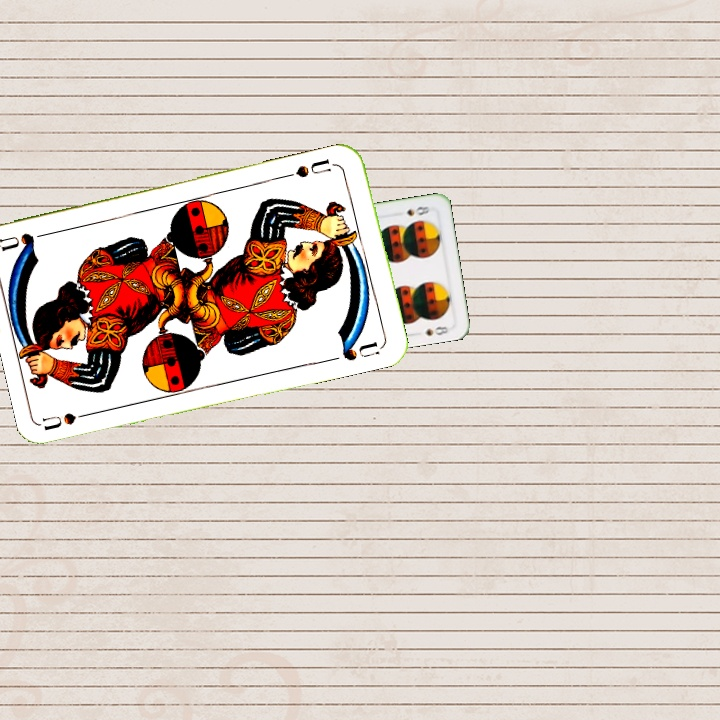S8: (402, 202, 435, 218)
SU: (40, 407, 100, 432), (282, 155, 333, 180)
